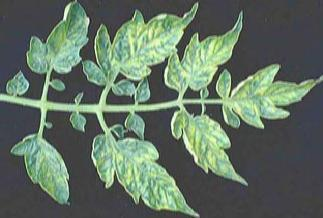Tomato leaf yellow virus: (85, 2, 197, 93), (83, 133, 198, 217), (161, 10, 244, 96), (216, 62, 315, 133), (166, 110, 252, 186), (24, 5, 87, 82), (10, 131, 70, 204)
